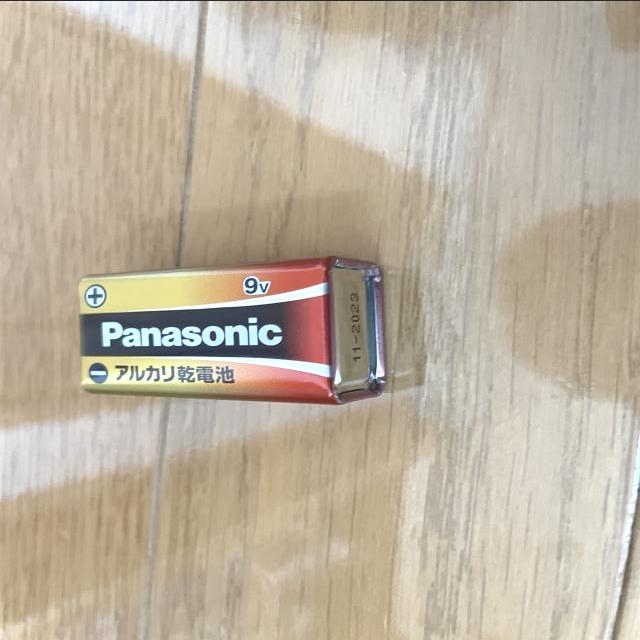9V: (80, 253, 388, 405)
